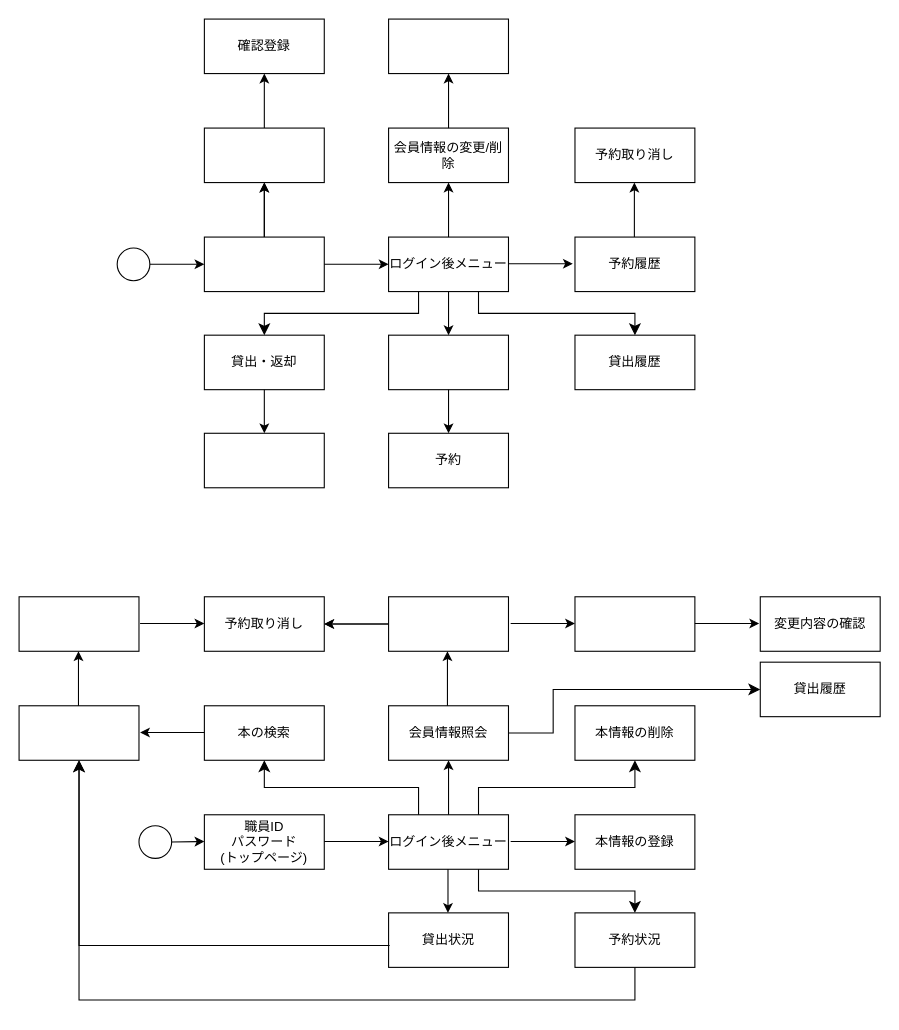
Some shapes in this 899 by 1030 pixel diagram are drawn without their labels. The box of each missing label's shape, as (x1, y1, x2, y2) in pixels:
ログイン 新規会員登録 (トップページ): (203, 236, 324, 292)
会員情報の 変更・削除: (574, 596, 695, 651)
会員情報の表示: (387, 596, 508, 651)
会員情報入力: (203, 127, 324, 183)
入力確認: (203, 432, 324, 488)
変更内容確認: (387, 18, 508, 74)
本の検索結果: (387, 334, 508, 390)
本情報: (18, 705, 139, 760)
貸出・予約状況: (18, 596, 139, 651)
